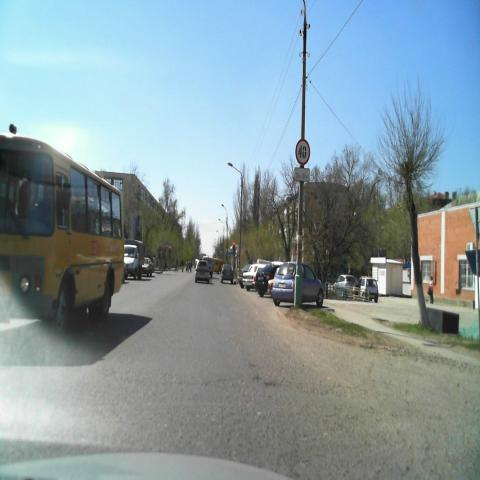8_5_4: (294, 167, 311, 181)
